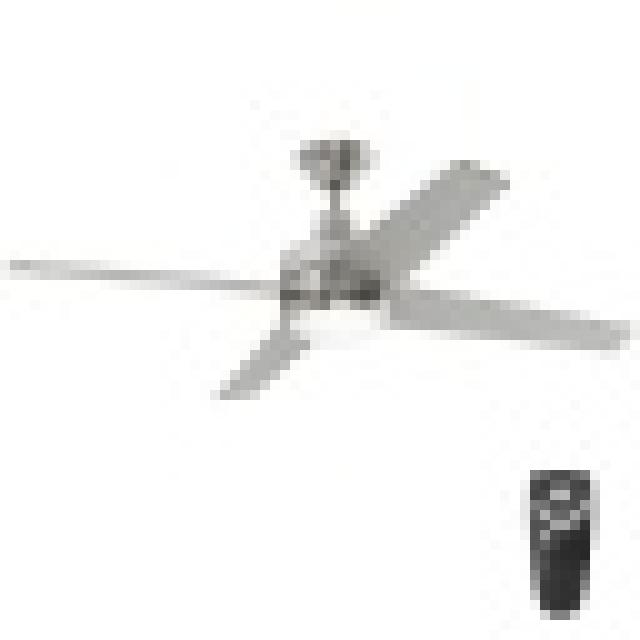Bulb: (8, 137, 630, 438)
